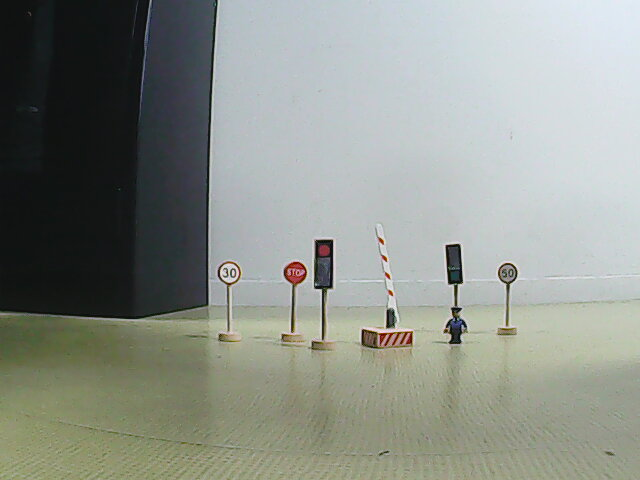barrier_up: (355, 223, 415, 351)
green_traffic_sign: (446, 242, 464, 285)
person: (441, 304, 469, 348)
red_traffic_sign: (314, 238, 333, 290)
sign_30: (217, 261, 242, 287)
sign_50: (496, 261, 519, 285)
stop_sign: (283, 260, 308, 284)
